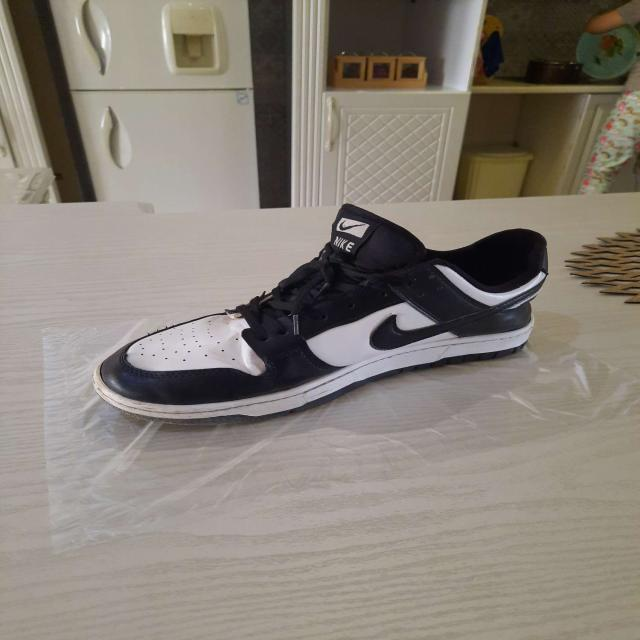shoe: (91, 200, 553, 426)
